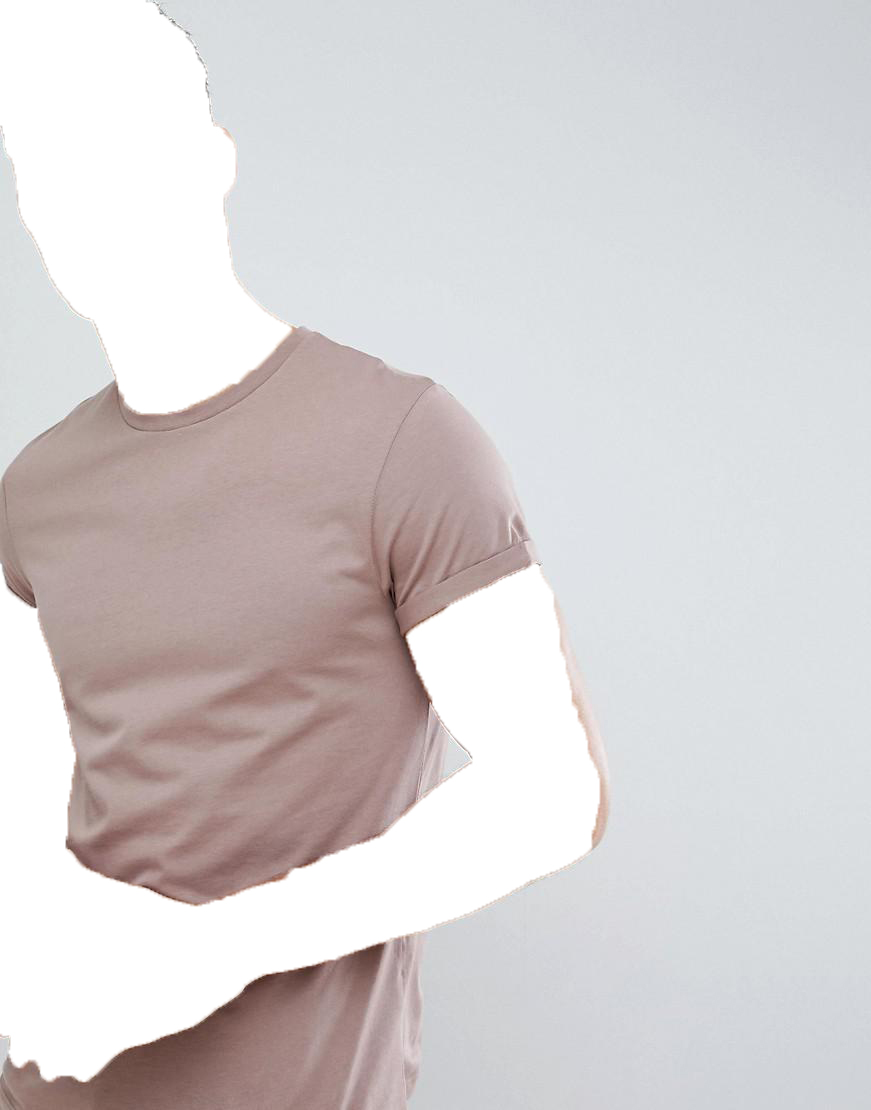teeshirt: (1, 325, 546, 1110)
